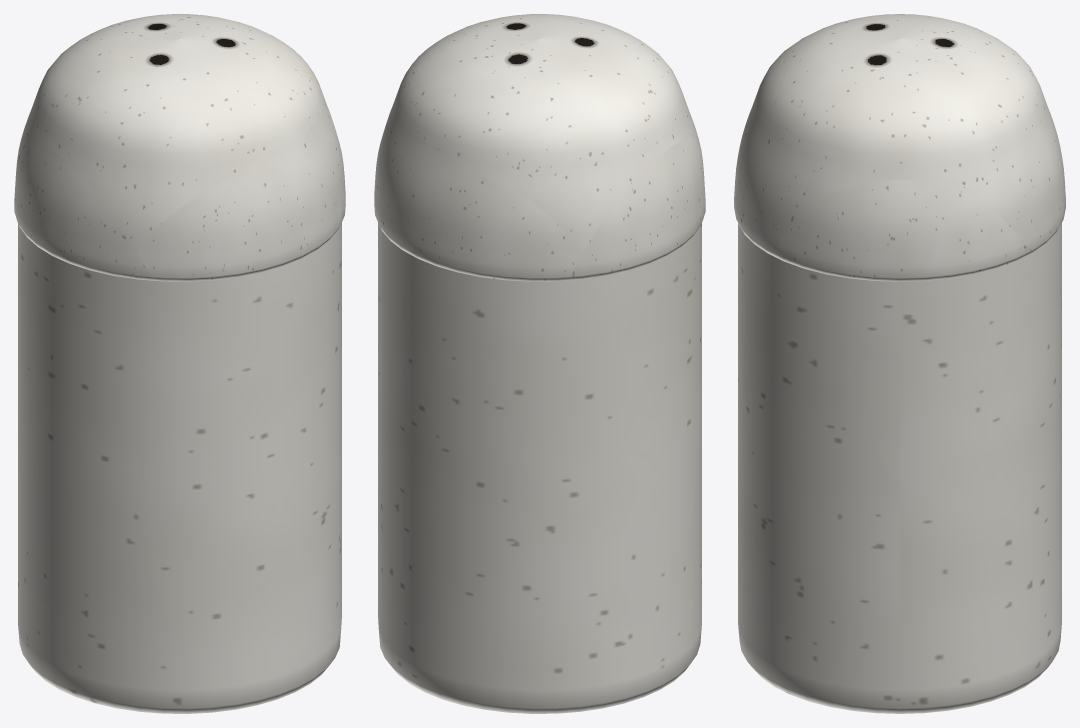
The model's file is salero.glb.
3 renders of one model, left to right at view 1: azimuth 30°, elevation 25°; view 2: azimuth 150°, elevation 25°; view 3: azimuth 270°, elevation 25°, orthographic.
Parts seen in each view (by area): view 1: Salt shaker, ceramic; view 2: Salt shaker, ceramic; view 3: Salt shaker, ceramic.
Boxes of the visible parts, left/top/right/bottom form: Salt shaker, ceramic: left=14, top=14, right=345, bottom=713; Salt shaker, ceramic: left=374, top=14, right=705, bottom=713; Salt shaker, ceramic: left=734, top=14, right=1065, bottom=713.
Bounding box in the file's own units: 0.044 × 0.0892 × 0.044.
Materials: 2 (2 with a texture image).
